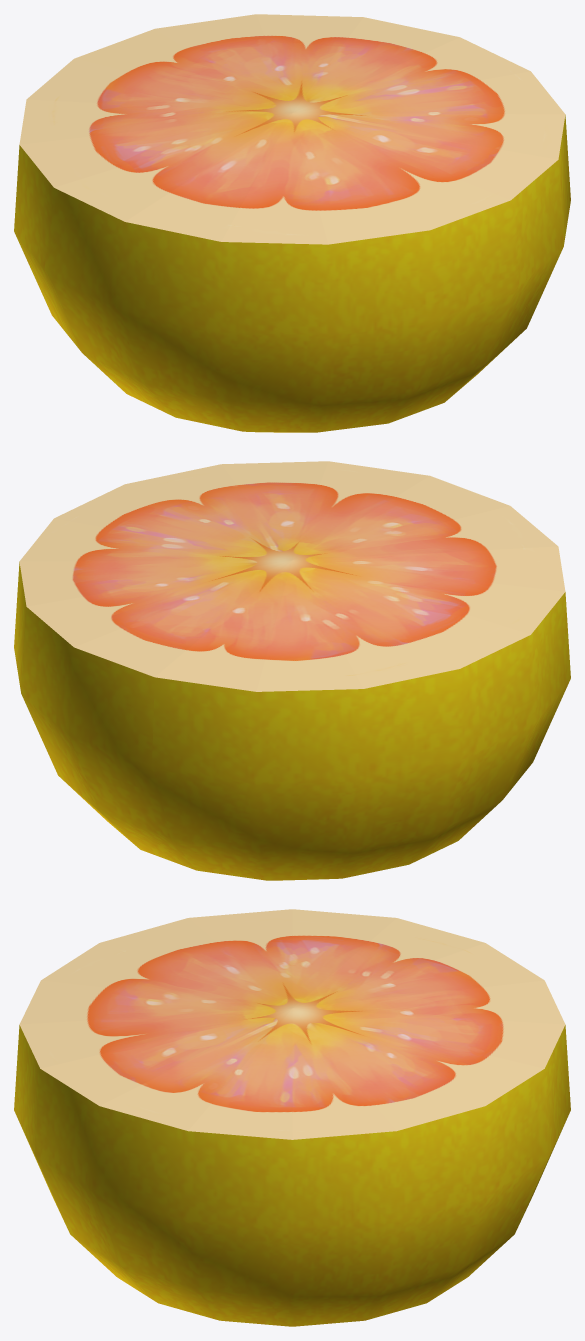
Rendered from Pomelo_Yellow_Half.fbx.
3 renders of one model, top to bottom at view 1: azimuth 30°, elevation 25°; view 2: azimuth 150°, elevation 25°; view 3: azimuth 270°, elevation 25°, orthographic.
Visible parts, largest first — view 1: Pomelo_Yellow_Half; view 2: Pomelo_Yellow_Half; view 3: Pomelo_Yellow_Half.
Part boxes in pixels (box(x1,y1,x2,y2)): Pomelo_Yellow_Half: box(14, 14, 570, 432); Pomelo_Yellow_Half: box(14, 461, 570, 880); Pomelo_Yellow_Half: box(14, 909, 570, 1326).
Size of the model in its own units: 38.85 by 21.72 by 38.85.
1 material, 1 textured.
